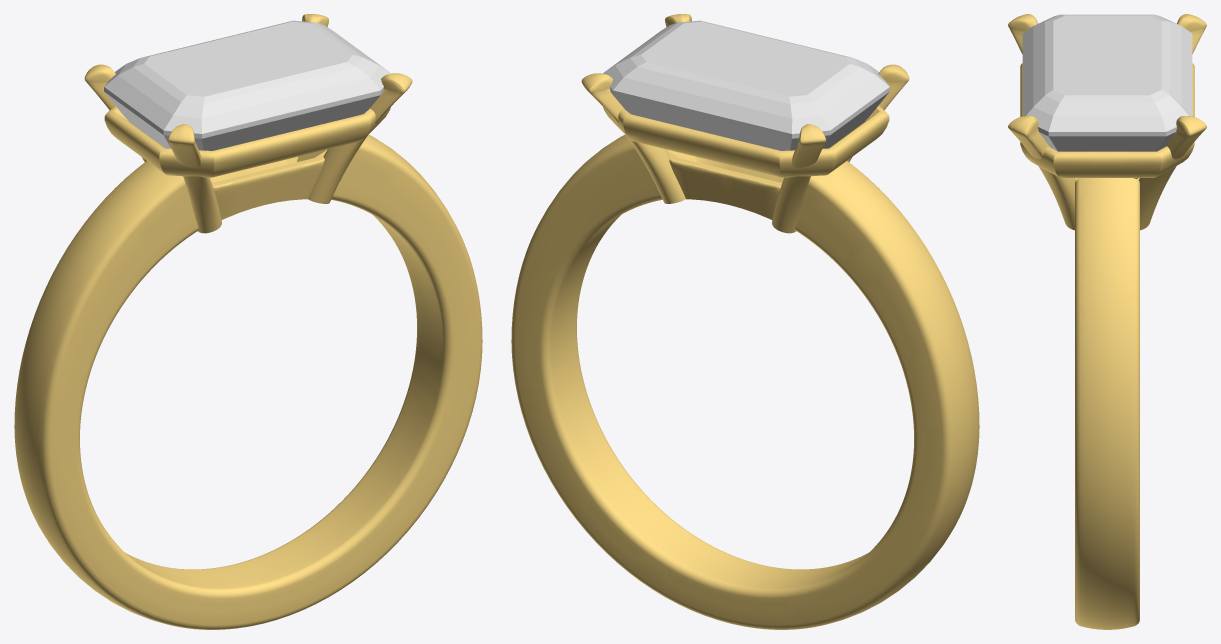
Rendered from SophiaYGeng_blender.glb.
3 views of the same model, side by side, from view 1: azimuth 30°, elevation 25°; view 2: azimuth 150°, elevation 25°; view 3: azimuth 270°, elevation 25° (orthographic).
Parts seen in each view (by area): view 1: Sophia YG for 3d model, Sophia dia for 3d model; view 2: Sophia YG for 3d model, Sophia dia for 3d model; view 3: Sophia YG for 3d model, Sophia dia for 3d model.
Boxes of the visible parts, x1=… form: Sophia YG for 3d model: x1=14, y1=14, x2=482, y2=629; Sophia dia for 3d model: x1=104, y1=20, x2=390, y2=150; Sophia YG for 3d model: x1=511, y1=14, x2=979, y2=629; Sophia dia for 3d model: x1=603, y1=20, x2=889, y2=150; Sophia YG for 3d model: x1=1008, y1=14, x2=1206, y2=629; Sophia dia for 3d model: x1=1022, y1=14, x2=1192, y2=151.
Size of the model in its own units: 19.49 by 23.27 by 7.61.
